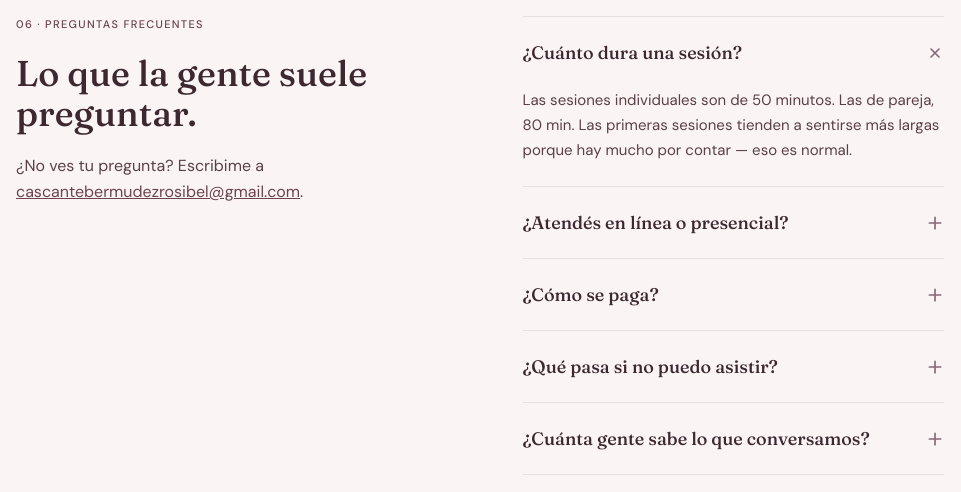
it: FAQ section › closes the currently open question when clicked again
Click the button "¿Cuánto dura una sesión?".
click(733, 52)  # box [522,17,944,88]
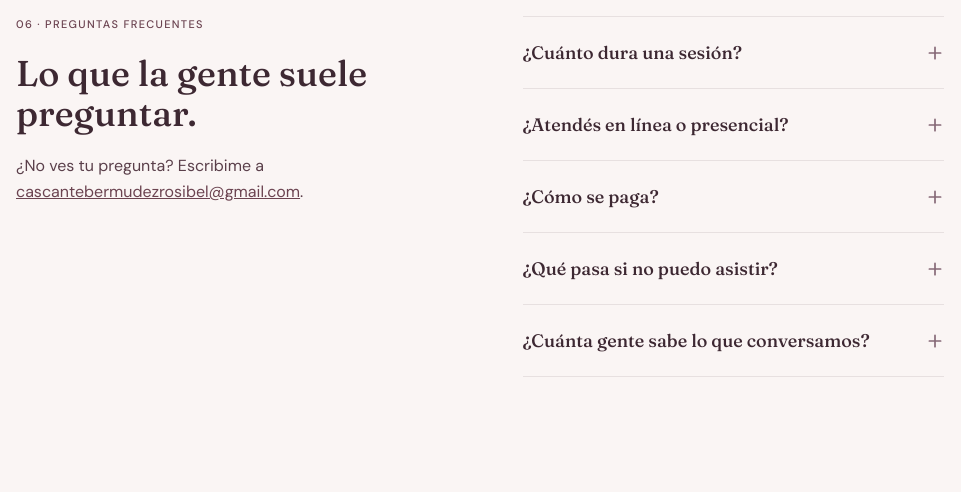
Now the button "¿Cuánto dura una sesión?" is collapsed, box [522,17,944,88]
Now the text "Las sesiones individuales son de 50 minutos. Las de pareja, 80 min. Las primeras sesiones tienden a sentirse más largas " is gone
